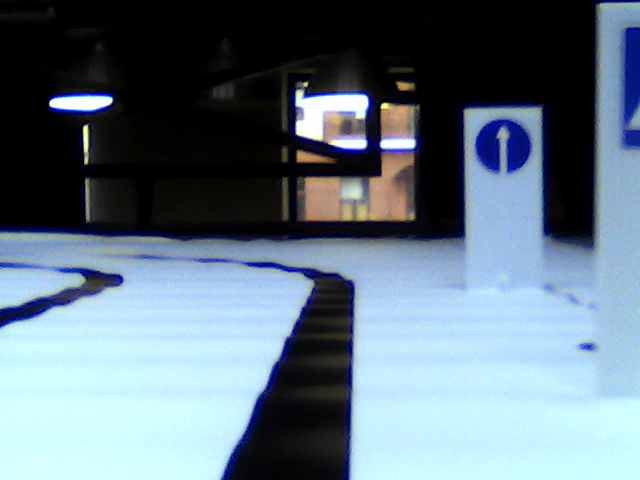forw: (475, 119, 535, 178)
